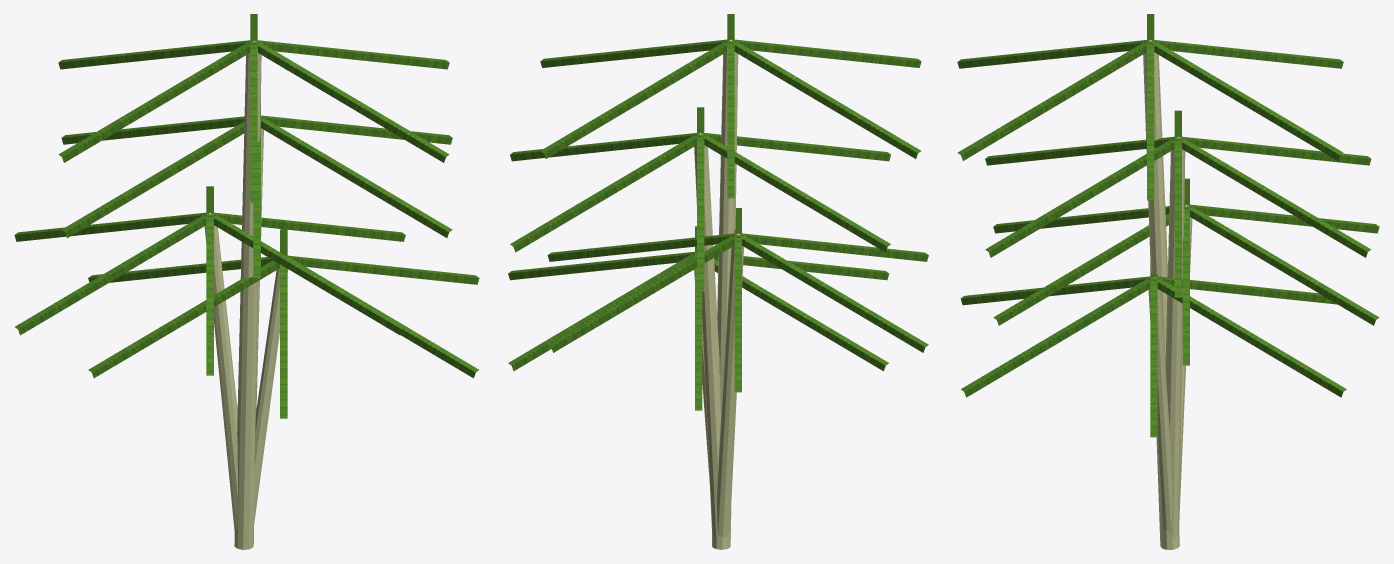
Rendered from pohon_palem_hiasan_sedang.glb.
3 renders of one model, left to right at view 1: azimuth 30°, elevation 25°; view 2: azimuth 150°, elevation 25°; view 3: azimuth 270°, elevation 25°, orthographic. The views are drawn at different scales.
Visible parts, largest first — view 1: Pelepah_Daun_Palem, Batang_Palem_Kuning; view 2: Pelepah_Daun_Palem, Batang_Palem_Kuning; view 3: Pelepah_Daun_Palem, Batang_Palem_Kuning.
Boxes of the visible parts, x1=… form: Pelepah_Daun_Palem: x1=14, y1=14, x2=479, y2=418; Batang_Palem_Kuning: x1=204, y1=41, x2=288, y2=549; Pelepah_Daun_Palem: x1=508, y1=14, x2=928, y2=410; Batang_Palem_Kuning: x1=694, y1=40, x2=743, y2=549; Pelepah_Daun_Palem: x1=957, y1=14, x2=1379, y2=437; Batang_Palem_Kuning: x1=1143, y1=41, x2=1192, y2=549.
Bounding box in the file's own units: 3.11 × 3.43 × 2.59.
Materials: 2 (1 with a texture image).
